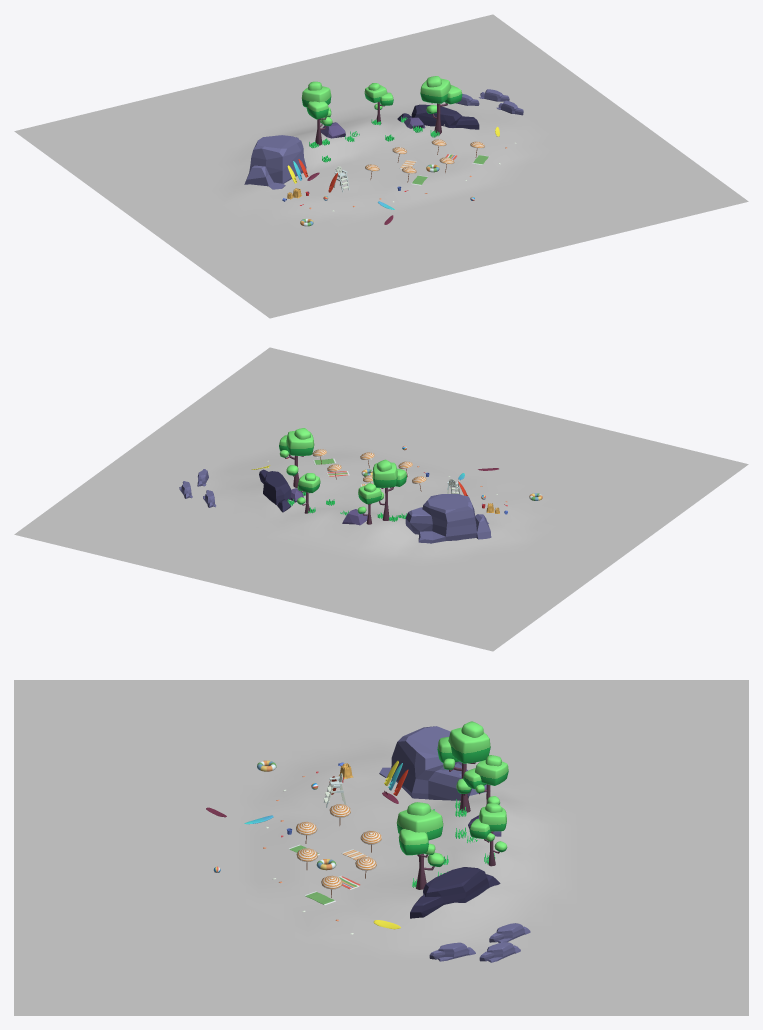
File: beach_map.fbx
The picture shows the model from 3 angles, top to bottom: view 1: azimuth 30°, elevation 25°; view 2: azimuth 150°, elevation 25°; view 3: azimuth 270°, elevation 25°; orthographic projection. The views are drawn at different scales.
Parts seen in each view (by area): view 1: IslandModel_111, pasted__lp10, pasted__birch_tree_SC_free11, pasted__birch_tree_SC_free15, pasted__lp11, Umbrellas, pasted__birch_tree_SC_free12; view 2: IslandModel_111, pasted__lp10, pasted__birch_tree_SC_free11, pasted__birch_tree_SC_free15, pasted__lp11, Umbrellas, pasted__birch_tree_SC_free16, pasted__birch_tree_SC_free12; view 3: IslandModel_111, pasted__lp10, pasted__birch_tree_SC_free11, pasted__lp11, pasted__birch_tree_SC_free15, Umbrellas, pasted__birch_tree_SC_free12, pasted__birch_tree_SC_free16, pasted__lp14.
Part boxes in pixels (<box>): IslandModel_111: <box>14,14,748,318</box>; pasted__lp10: <box>244,135,306,189</box>; pasted__birch_tree_SC_free11: <box>420,76,462,134</box>; pasted__birch_tree_SC_free15: <box>301,81,332,145</box>; pasted__lp11: <box>397,104,479,129</box>; Umbrellas: <box>365,139,484,182</box>; pasted__birch_tree_SC_free12: <box>364,83,393,123</box>; IslandModel_111: <box>14,347,748,651</box>; pasted__lp10: <box>405,494,491,543</box>; pasted__birch_tree_SC_free11: <box>279,428,314,487</box>; pasted__birch_tree_SC_free15: <box>372,459,406,520</box>; pasted__lp11: <box>259,469,291,512</box>; Umbrellas: <box>312,449,426,491</box>; pasted__birch_tree_SC_free16: <box>357,483,381,524</box>; pasted__birch_tree_SC_free12: <box>297,473,320,513</box>; IslandModel_111: <box>14,680,748,1015</box>; pasted__lp10: <box>379,726,486,800</box>; pasted__birch_tree_SC_free11: <box>396,802,444,889</box>; pasted__lp11: <box>410,867,500,918</box>; pasted__birch_tree_SC_free15: <box>437,721,490,812</box>; Umbrellas: <box>296,804,381,897</box>; pasted__birch_tree_SC_free12: <box>469,803,507,866</box>; pasted__birch_tree_SC_free16: <box>463,755,508,804</box>; pasted__lp14: <box>429,942,475,961</box>.
Bounding box in the file's own units: 27.83 × 3.99 × 25.74.
